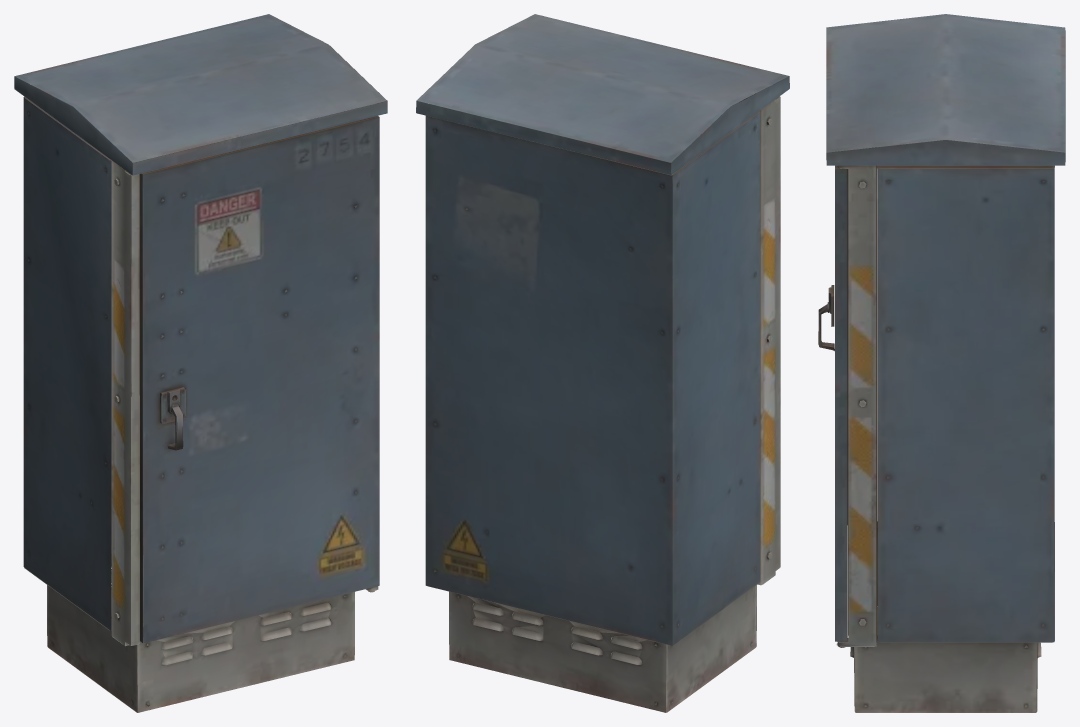
File: utility-box.glb
3 renders of one model, left to right at view 1: azimuth 30°, elevation 25°; view 2: azimuth 150°, elevation 25°; view 3: azimuth 270°, elevation 25°, orthographic.
Visible parts, largest first — view 1: utility_box_01_box; view 2: utility_box_01_box; view 3: utility_box_01_box.
Part boxes in pixels (box(x1,y1,x2,y2)): utility_box_01_box: box(14, 14, 387, 712); utility_box_01_box: box(416, 14, 789, 712); utility_box_01_box: box(818, 14, 1065, 712).
Size of the model in its own units: 0.6013 by 1.3 by 0.4997.
Materials: 1 (1 with a texture image).
